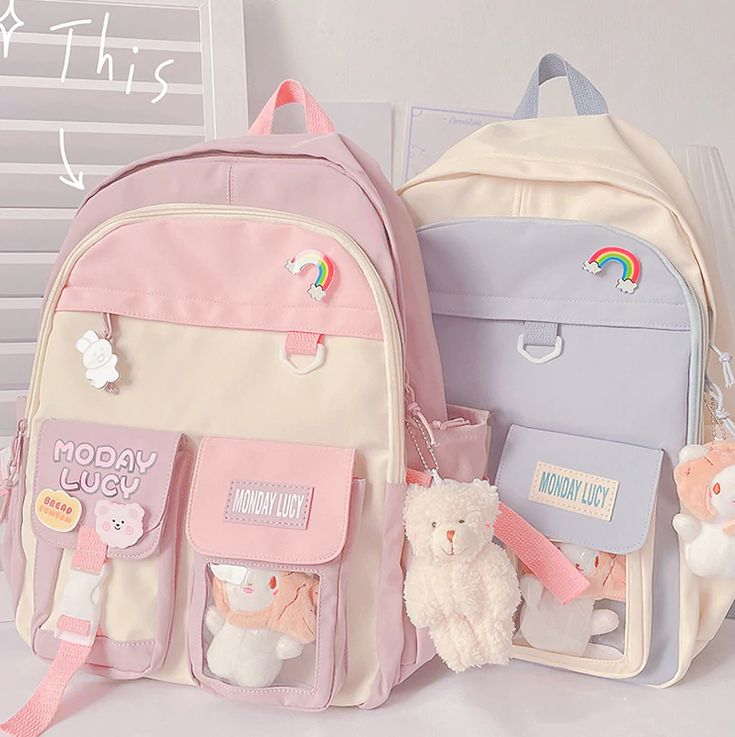nylon: (1, 52, 735, 737)
